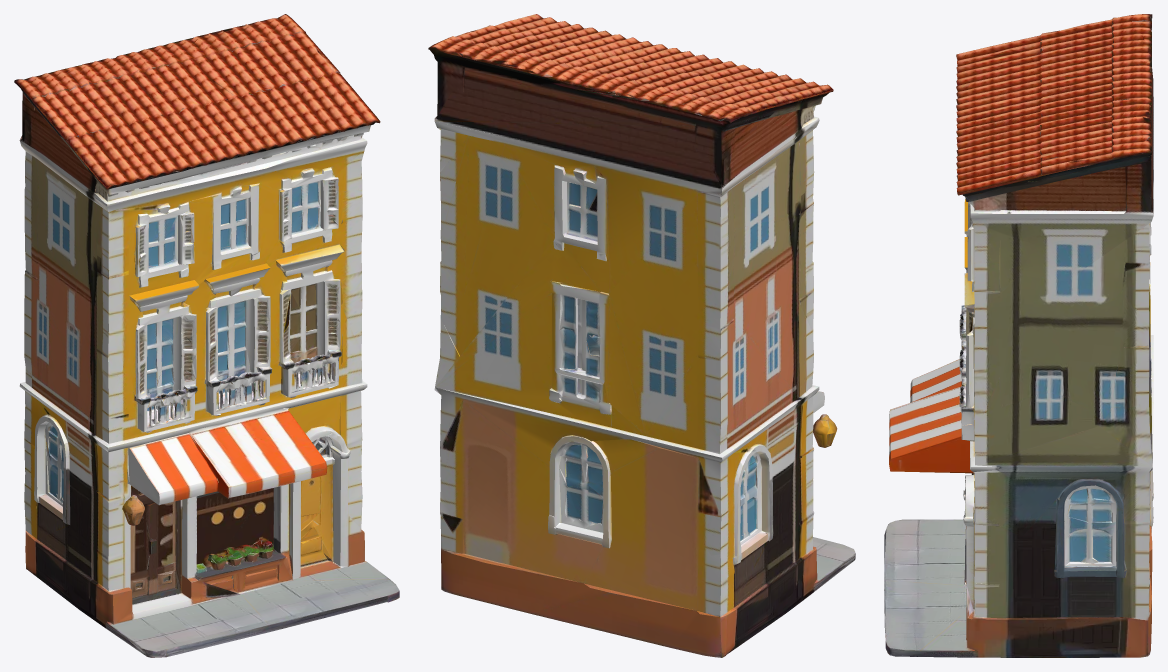
Rendered from bldg2.glb.
3 views of the same model, side by side, from view 1: azimuth 30°, elevation 25°; view 2: azimuth 150°, elevation 25°; view 3: azimuth 270°, elevation 25° (orthographic). The views are drawn at different scales.
Bounding box in the file's own units: 1.11 × 1.9 × 0.9084.
1 material, 1 textured.
